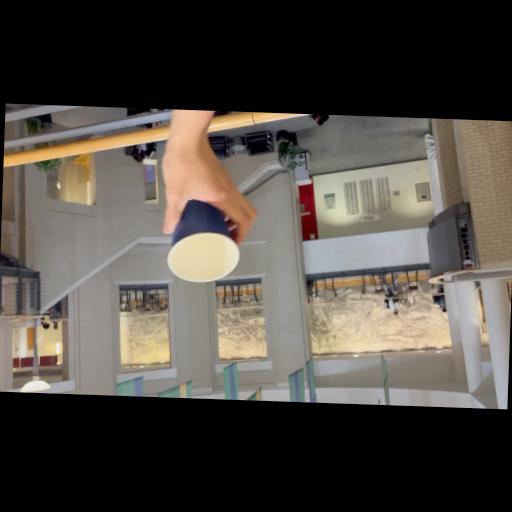lp_paper_cup: (166, 198, 240, 284)
